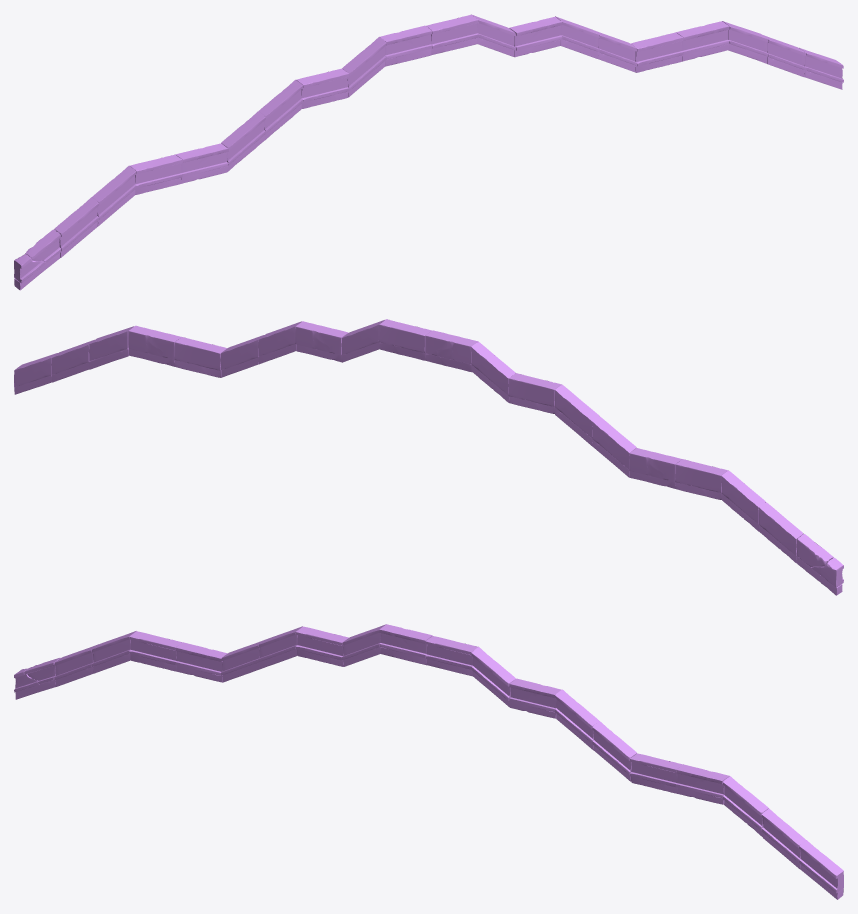
Rendered from Bridge_big_02_side_01.fbx.
3 views of the same model, one above another, from view 1: azimuth 30°, elevation 25°; view 2: azimuth 150°, elevation 25°; view 3: azimuth 330°, elevation 25° (orthographic).
Visible parts, largest first — view 1: Bridge_big_02_side_01_LOD0; view 2: Bridge_big_02_side_01_LOD0; view 3: Bridge_big_02_side_01_LOD0.
Boxes of the visible parts, x1=… form: Bridge_big_02_side_01_LOD0: x1=14, y1=14, x2=843, y2=290; Bridge_big_02_side_01_LOD0: x1=14, y1=319, x2=843, y2=595; Bridge_big_02_side_01_LOD0: x1=14, y1=624, x2=843, y2=899.
Size of what is drawn, in the model's own units: 3239 by 603 by 52.55.
